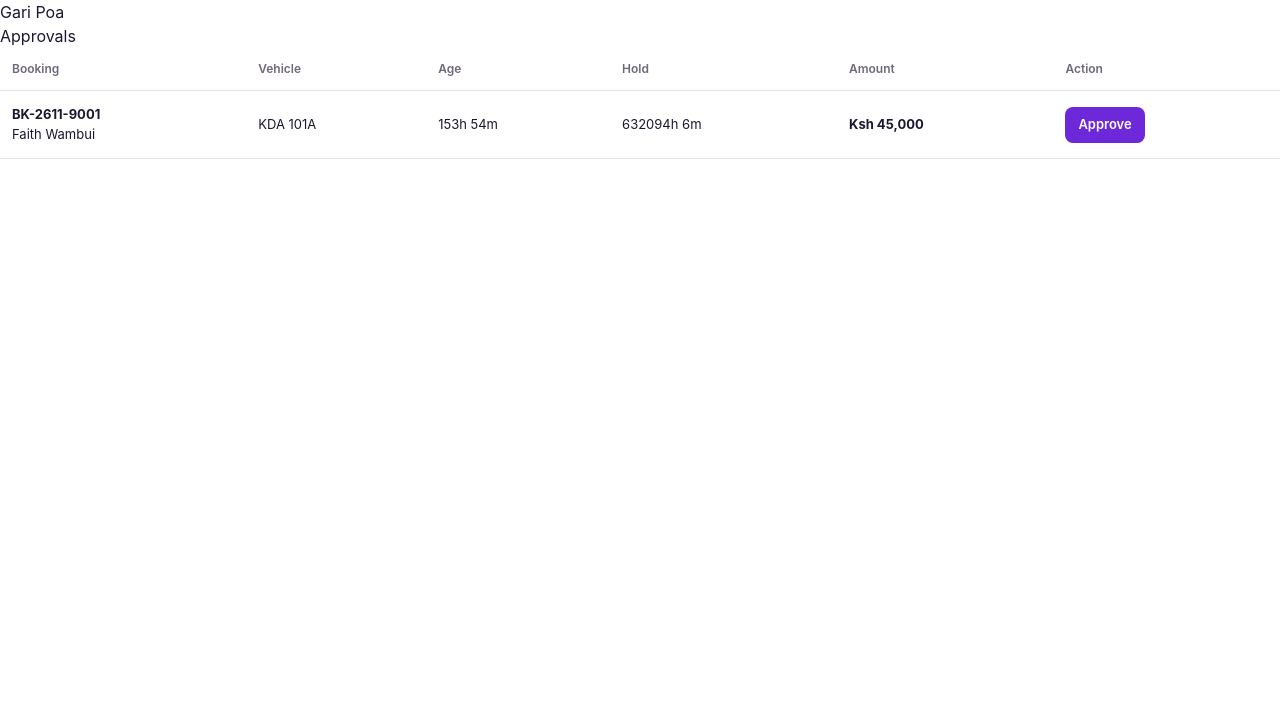
admin rules › hides corporate credit for agent approvals and enforces required fields
Expected: the heading "Approvals" is shown, [0,26,76,46]
Click the button "Approve" at (1105,124), box [1065,106,1145,142]
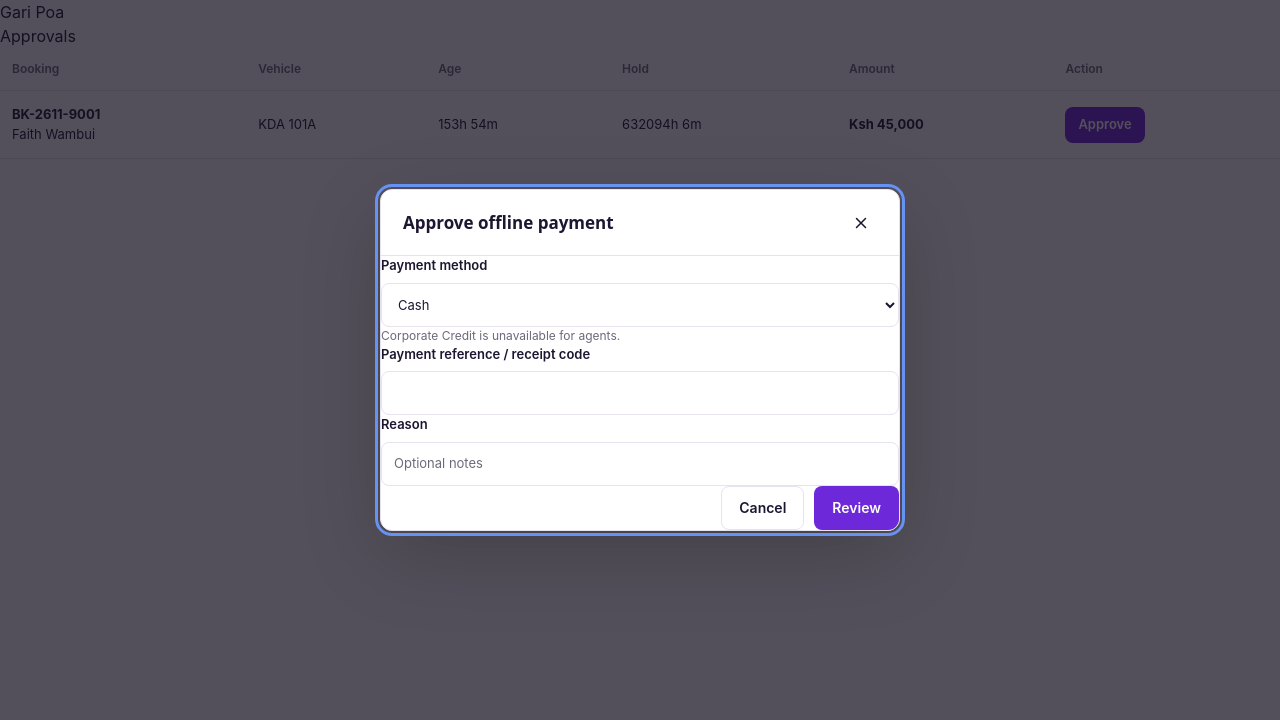
Now the dialog is shown, box [380,189,900,531]
